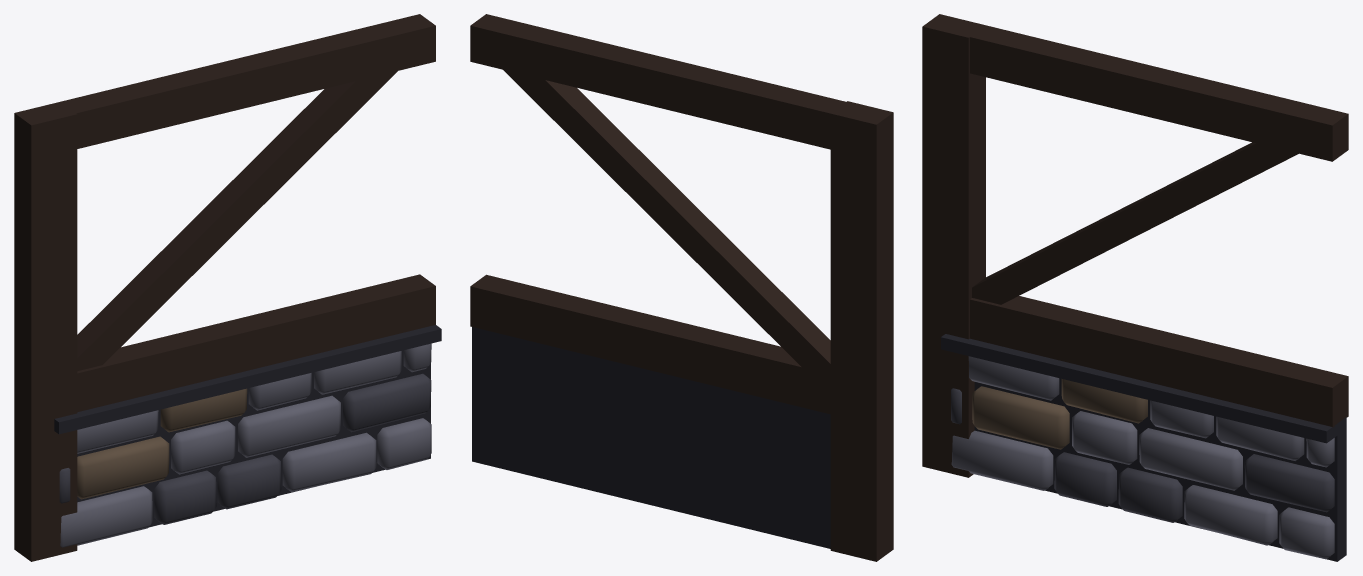
Rendered from kit_timber_low_b.glb.
3 renders of one model, left to right at view 1: azimuth 30°, elevation 25°; view 2: azimuth 150°, elevation 25°; view 3: azimuth 330°, elevation 25°, orthographic.
Parts seen in each view (by area): view 1: kit_timber_low_b; view 2: kit_timber_low_b; view 3: kit_timber_low_b.
Part boxes in pixels (x1,y1,x2,y2): kit_timber_low_b: (14, 14, 441, 561); kit_timber_low_b: (470, 14, 893, 561); kit_timber_low_b: (922, 14, 1348, 561).
Size of the model in its own units: 1.06 by 1.09 by 0.098.
